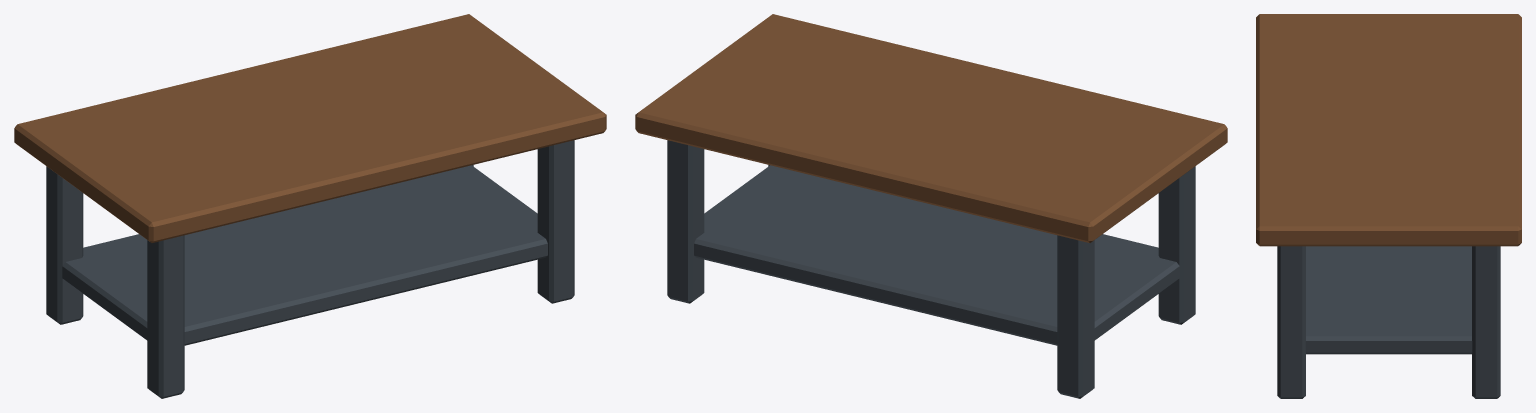
Rendered from CoffeeTable.fbx.
The picture shows the model from 3 angles, left to right: view 1: azimuth 30°, elevation 25°; view 2: azimuth 150°, elevation 25°; view 3: azimuth 270°, elevation 25°; orthographic projection. The views are drawn at different scales.
Parts seen in each view (by area): view 1: CoffeeTable; view 2: CoffeeTable; view 3: CoffeeTable.
Part boxes in pixels (x1=…): CoffeeTable: x1=14, y1=14, x2=606, y2=398; CoffeeTable: x1=635, y1=14, x2=1227, y2=398; CoffeeTable: x1=1256, y1=14, x2=1521, y2=398.
Bounding box in the file's own units: 115 × 45.5 × 60.
Materials: 1 (1 with a texture image).
